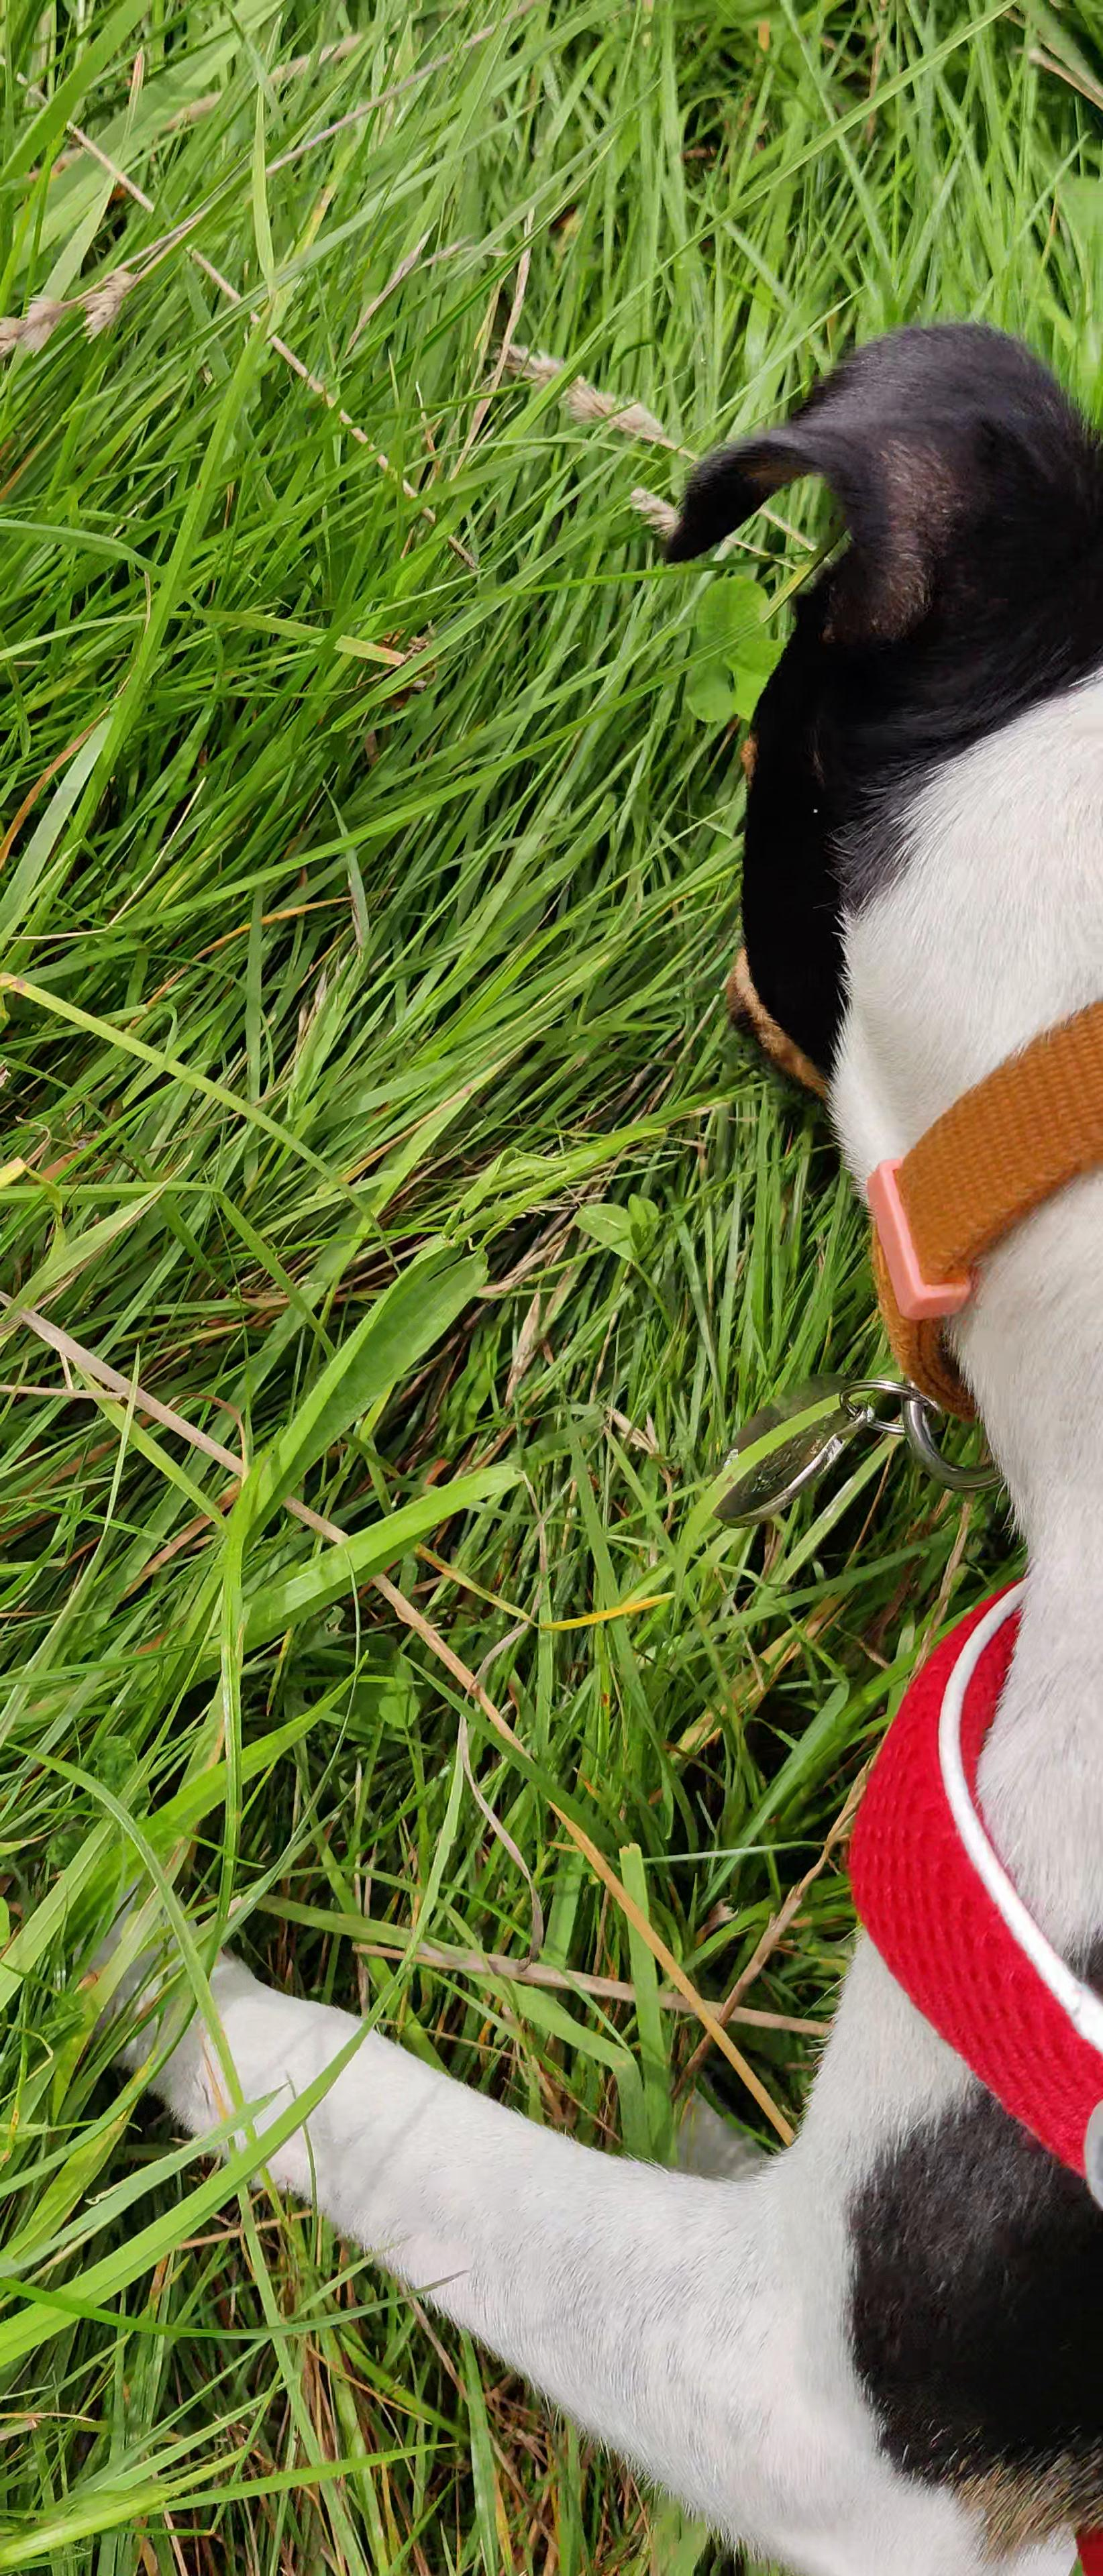Dog: (84, 310, 1103, 2576)
